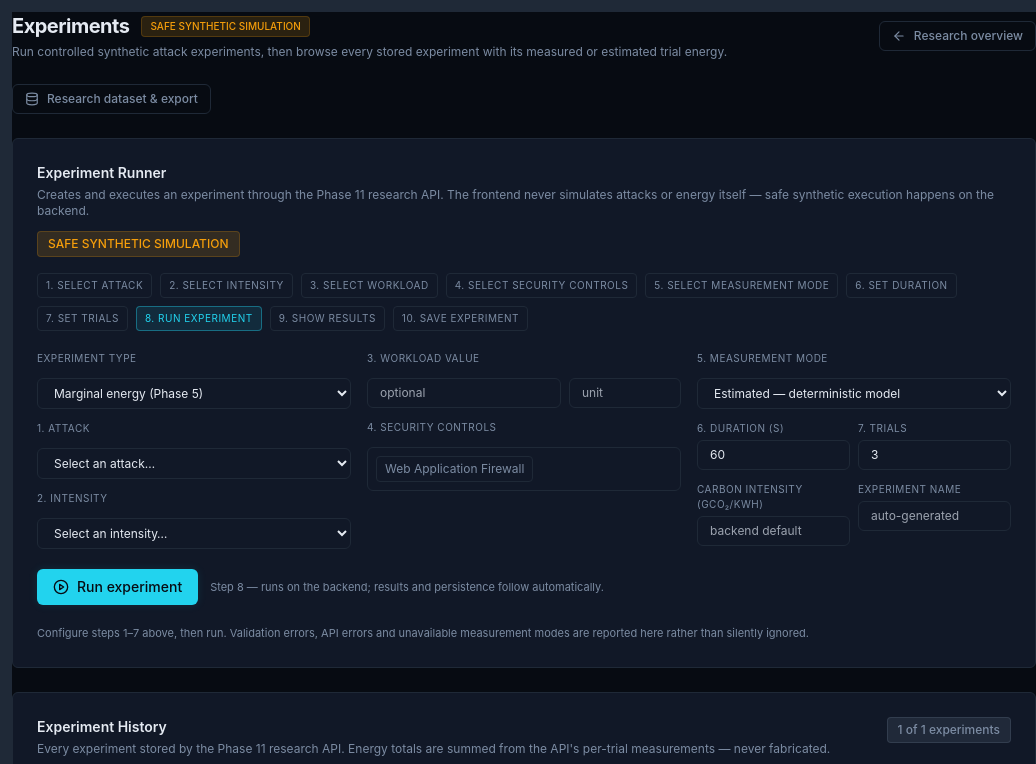
ExperimentsPage › reports a validation error when no attack is selected
Click the button "Run experiment".
click(118, 587)  # box left=37, top=569, right=198, bottom=605
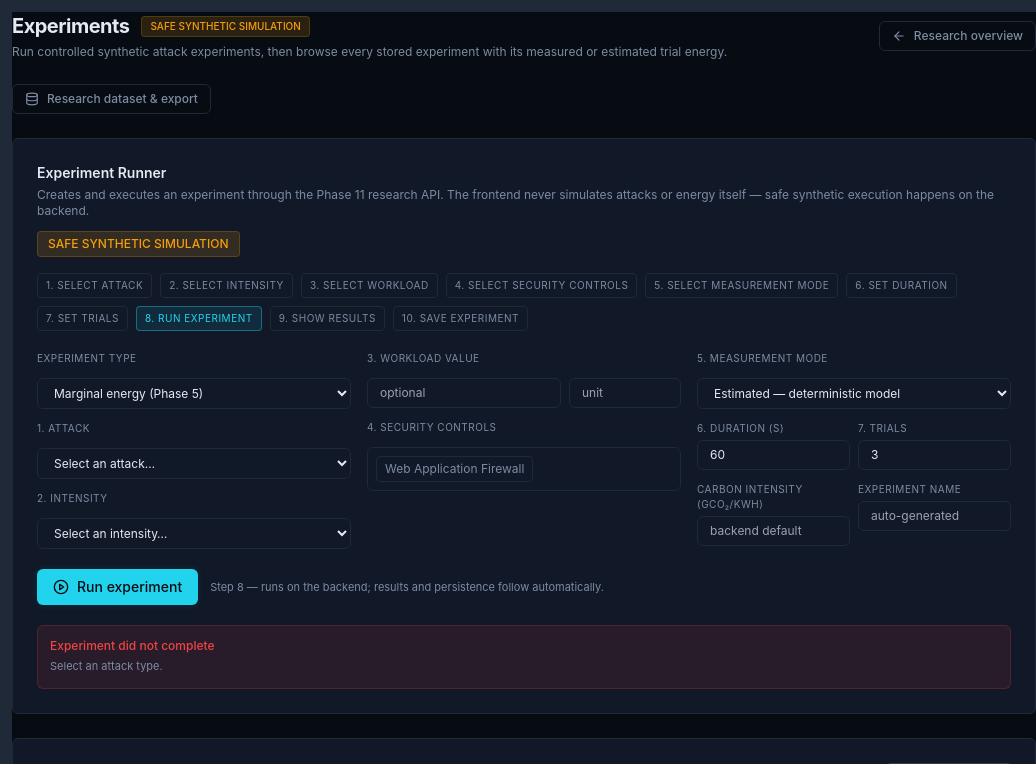
Expected: the text "Select an attack type." is shown, left=50, top=659, right=163, bottom=673
